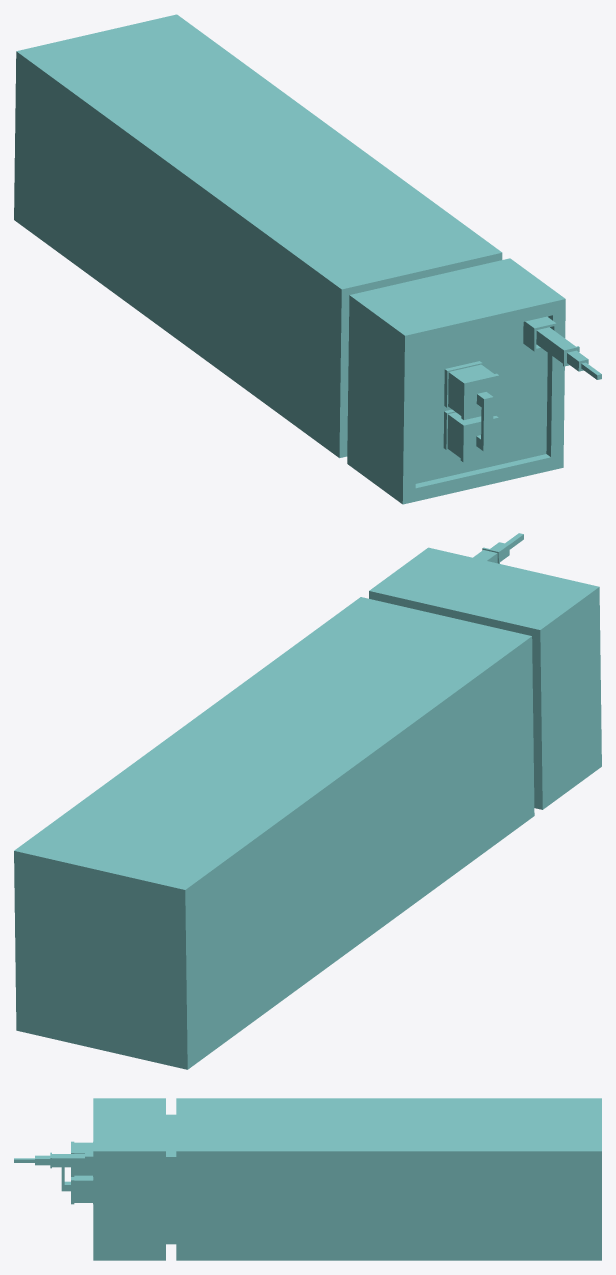
Rendered from building_01.glb.
3 views of the same model, one above another, from view 1: azimuth 30°, elevation 25°; view 2: azimuth 150°, elevation 25°; view 3: azimuth 270°, elevation 25° (orthographic). The views are drawn at different scales.
Visible parts, largest first — view 1: Node1; view 2: Node1; view 3: Node1.
Part boxes in pixels (x1,y1,x2,y2): Node1: (14,14,601,504); Node1: (14,533,601,1069); Node1: (14,1098,601,1260).
Size of the model in its own units: 1.5 by 1.5 by 7.18.
